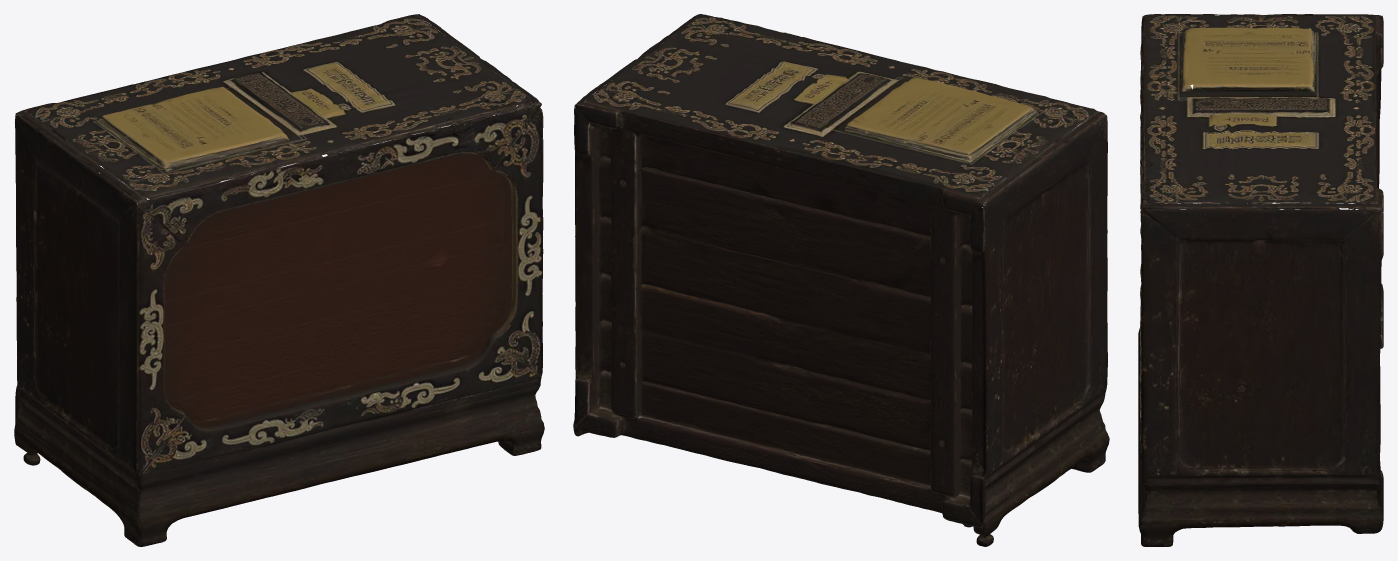
File: imperial-cabinet.glb
3 renders of one model, left to right at view 1: azimuth 30°, elevation 25°; view 2: azimuth 150°, elevation 25°; view 3: azimuth 270°, elevation 25°, orthographic. The views are drawn at different scales.
Parts seen in each view (by area): view 1: tripo_node_53980f99; view 2: tripo_node_53980f99; view 3: tripo_node_53980f99.
Part boxes in pixels (x1,y1,x2,y2): tripo_node_53980f99: [14, 14, 544, 546]; tripo_node_53980f99: [573, 14, 1109, 546]; tripo_node_53980f99: [1138, 14, 1383, 546].
Bounding box in the file's own units: 98.14 × 82.05 × 51.99.
Materials: 1 (1 with a texture image).
